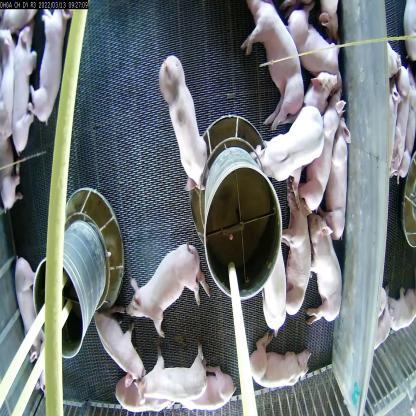Pig: (237, 0, 306, 120), (157, 50, 214, 195), (126, 234, 204, 325), (11, 257, 50, 403), (245, 319, 312, 402), (278, 188, 322, 312), (256, 101, 327, 177), (25, 4, 70, 123), (320, 117, 360, 247), (303, 98, 350, 206), (308, 211, 345, 326), (287, 13, 340, 88), (140, 343, 206, 402), (98, 307, 143, 386), (14, 36, 40, 154), (257, 244, 291, 334), (175, 365, 238, 406), (114, 379, 179, 416)
